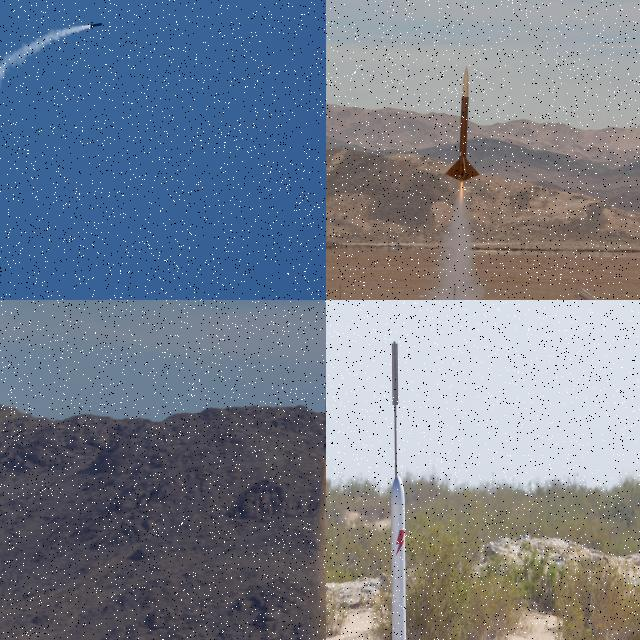Rocket: (383, 472, 418, 640), (446, 65, 480, 181), (321, 397, 326, 449), (90, 21, 103, 30)
